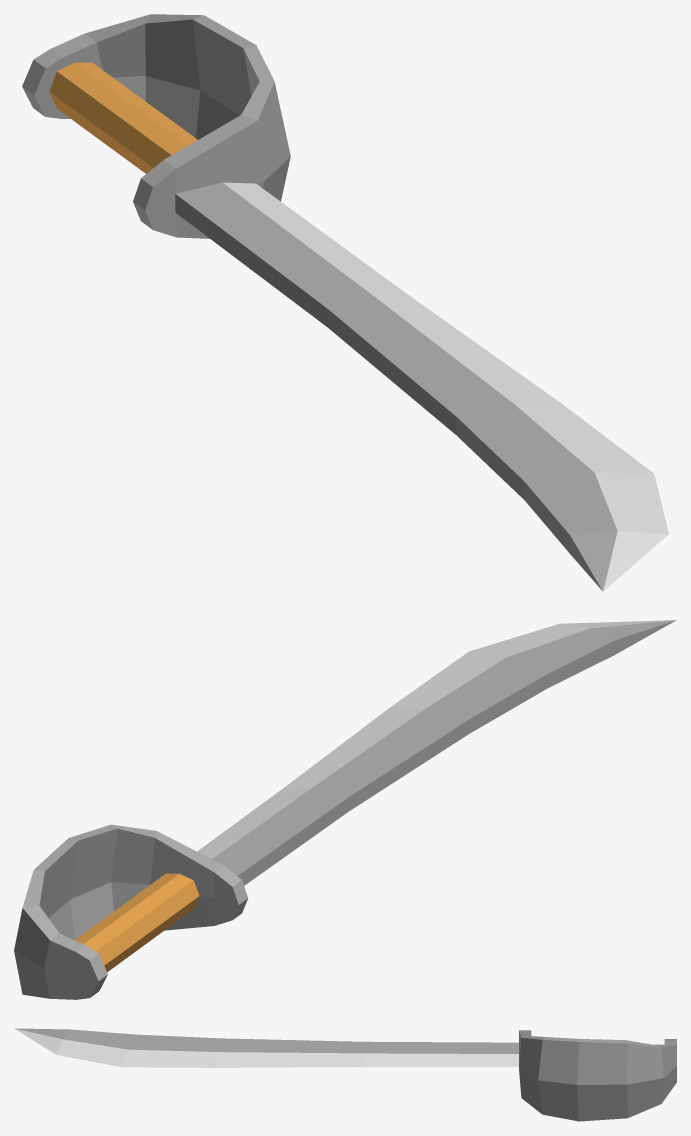
File: sword.01.fbx
3 renders of one model, top to bottom at view 1: azimuth 30°, elevation 25°; view 2: azimuth 150°, elevation 25°; view 3: azimuth 270°, elevation 25°, orthographic. The views are drawn at different scales.
Visible parts, largest first — view 1: sword.01; view 2: sword.01; view 3: sword.01.
Boxes of the visible parts, x1,y1,x2,y2 form: sword.01: [22, 14, 668, 591]; sword.01: [14, 620, 676, 999]; sword.01: [14, 1028, 676, 1121].
Size of the model in its own units: 0.2061 by 0.1348 by 1.02.
